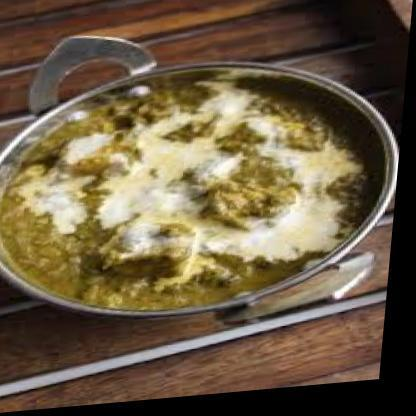palak_paneer: (0, 71, 389, 326)
